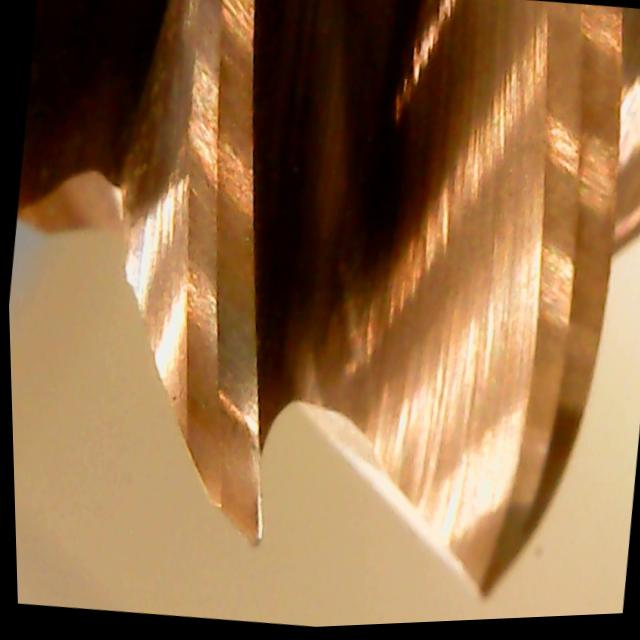Tool-wear-class-0: (131, 157, 318, 557)
